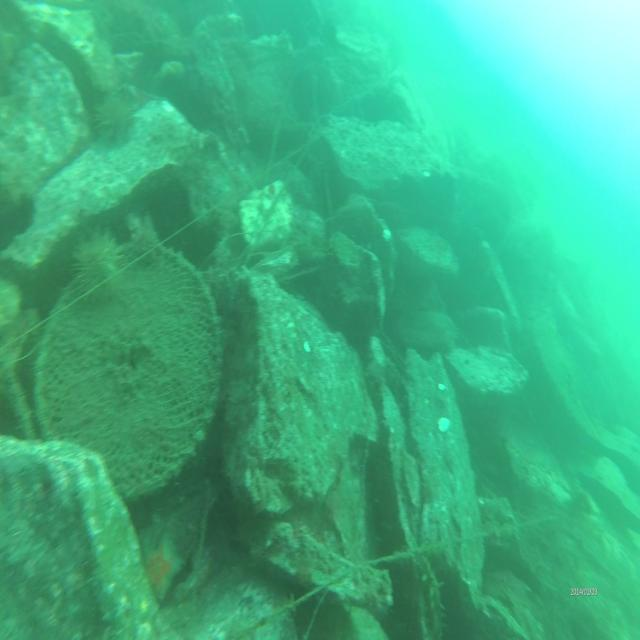echinus: (69, 226, 125, 300)
starfish: (139, 523, 189, 601)
